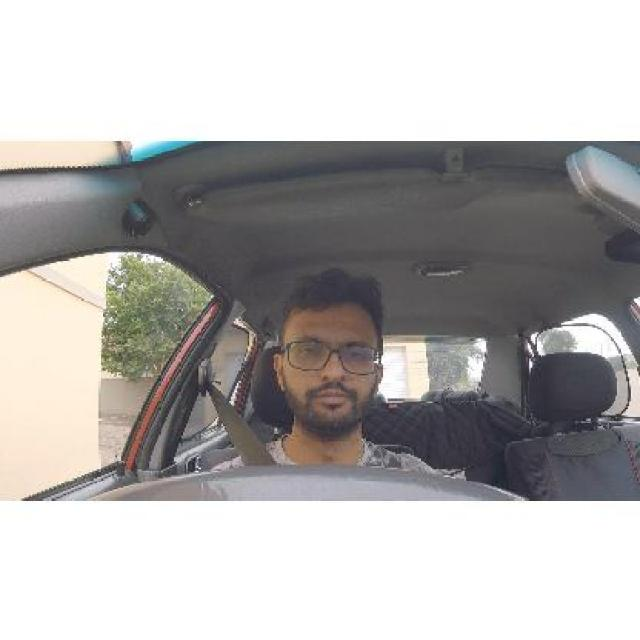person: (268, 263, 394, 445)
